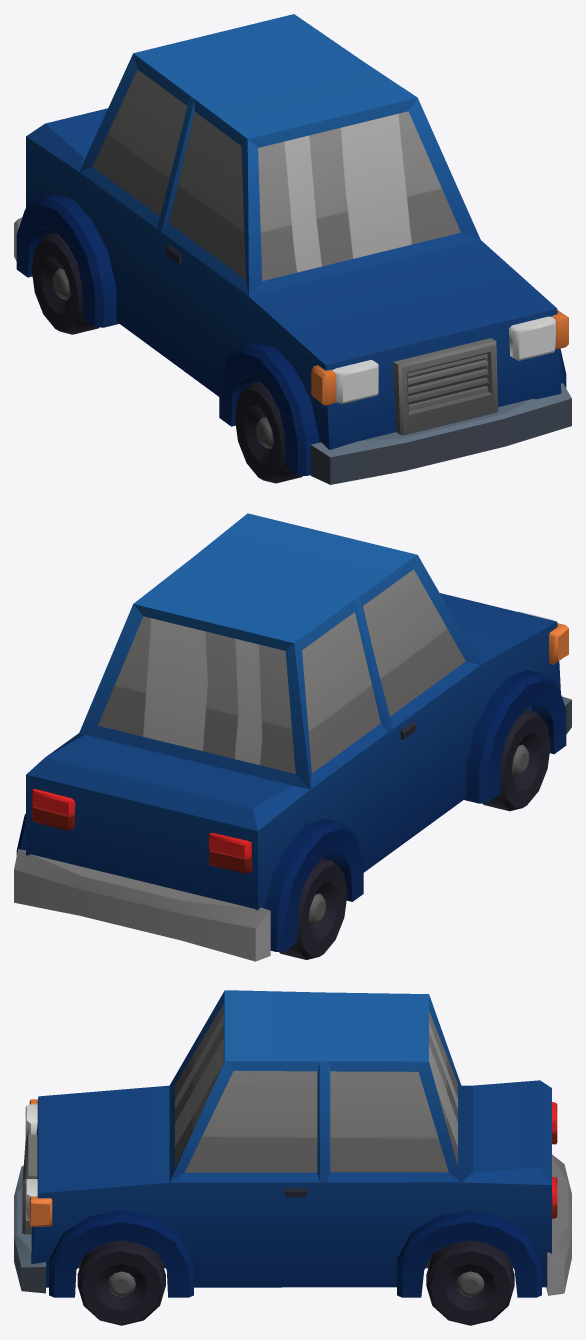
File: Car_2_8.fbx
3 renders of one model, top to bottom at view 1: azimuth 30°, elevation 25°; view 2: azimuth 150°, elevation 25°; view 3: azimuth 270°, elevation 25°, orthographic. The views are drawn at different scales.
Parts seen in each view (by area): view 1: Car_2_8, W_BR, W_FR; view 2: Car_2_8, W_FR, W_BR; view 3: Car_2_8, W_BL, W_FL.
Boxes of the visible parts, x1,y1,x2,y2 form: Car_2_8: (14, 14, 571, 484); W_BR: (31, 232, 99, 334); W_FR: (235, 381, 302, 483); Car_2_8: (14, 513, 571, 961); W_FR: (482, 709, 550, 811); W_BR: (279, 858, 347, 959); Car_2_8: (14, 990, 571, 1297); W_BL: (426, 1240, 514, 1325); W_FL: (77, 1240, 165, 1325).
Size of the model in its own units: 109 by 111 by 228.
